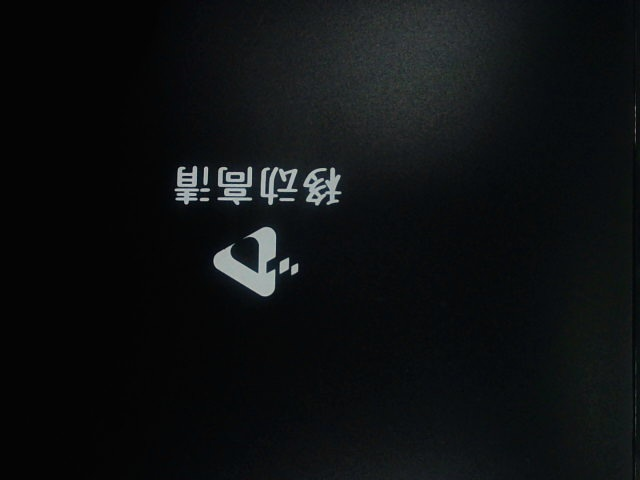AO_MobileHD: (148, 146, 369, 322)
